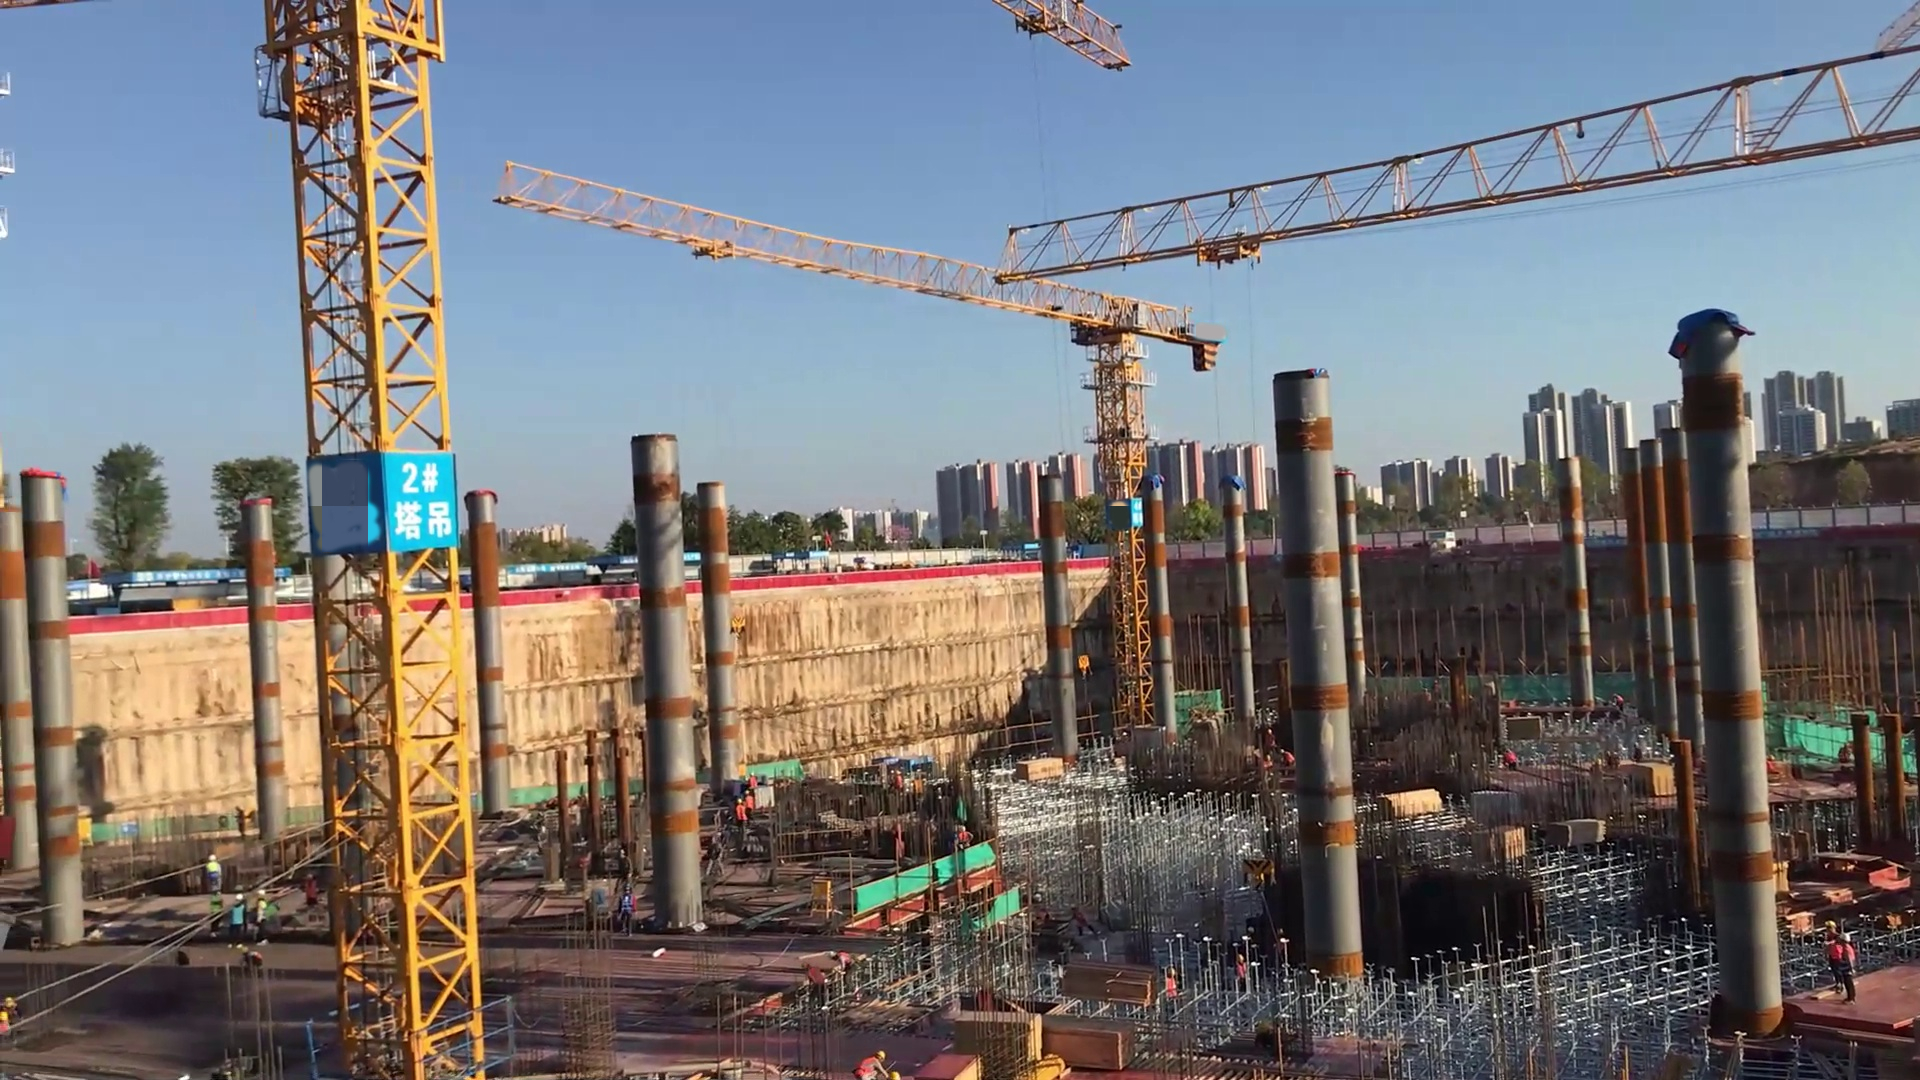board: (953, 1012, 1049, 1068), (913, 1050, 982, 1080), (1630, 762, 1675, 798)
ebox: (806, 880, 836, 921)
helmet: (206, 853, 220, 864), (235, 893, 243, 907)
hook: (1076, 652, 1095, 684), (733, 610, 754, 638)
person: (827, 948, 865, 996), (1825, 912, 1843, 1001), (253, 879, 274, 949), (802, 958, 828, 1010), (618, 882, 639, 943), (855, 1046, 892, 1080), (1840, 932, 1856, 1012), (615, 847, 639, 890), (229, 890, 247, 951), (303, 867, 322, 918), (1164, 964, 1181, 1019), (1234, 952, 1253, 997), (206, 852, 223, 898), (210, 888, 223, 944), (1837, 740, 1854, 778), (744, 790, 760, 827), (955, 823, 973, 853), (1280, 748, 1300, 776), (5, 990, 18, 1028), (235, 805, 248, 840), (1503, 744, 1518, 775), (893, 768, 906, 801), (736, 797, 748, 831), (747, 769, 760, 797), (1, 1011, 13, 1042), (1266, 727, 1277, 759), (1611, 691, 1624, 713)
slogan: (390, 466, 451, 549), (1576, 535, 1638, 559), (1751, 527, 1819, 545)
vest: (857, 1055, 882, 1080), (1841, 941, 1858, 976), (807, 964, 825, 989), (231, 902, 247, 930), (1166, 977, 1180, 1002), (206, 863, 222, 885), (622, 893, 635, 917)
wood: (1060, 958, 1162, 1010), (1041, 1017, 1136, 1070), (1537, 814, 1614, 855), (1376, 786, 1445, 824), (1019, 751, 1066, 797)
